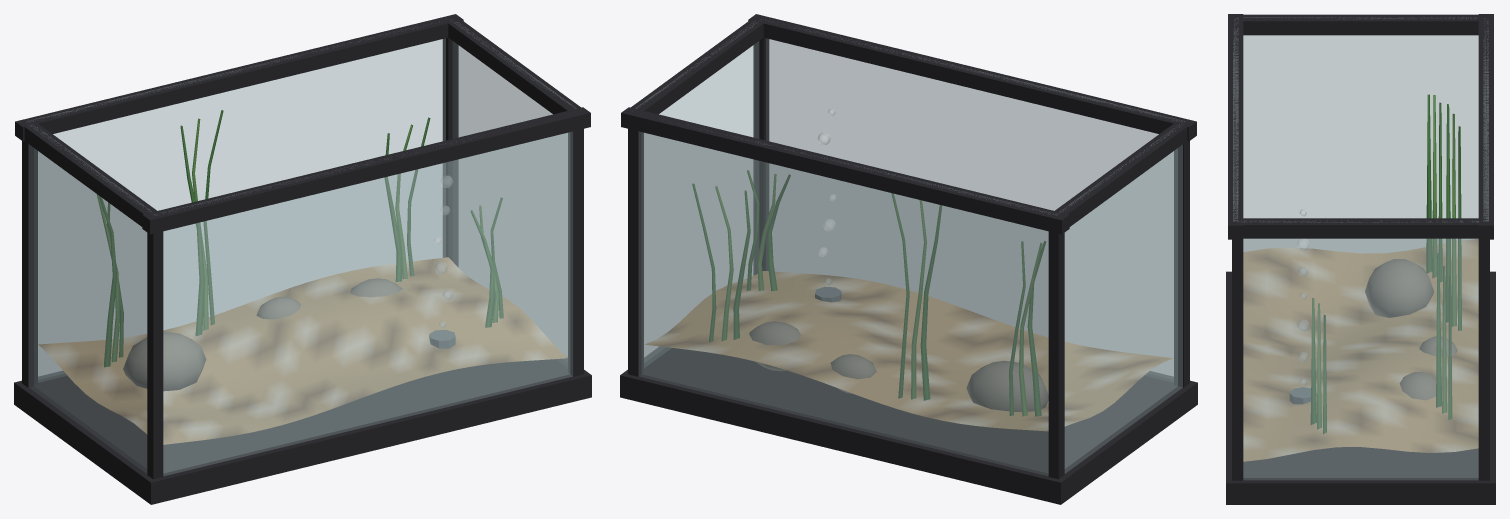
Rendered from be_kinh.glb.
3 renders of one model, left to right at view 1: azimuth 30°, elevation 25°; view 2: azimuth 150°, elevation 25°; view 3: azimuth 270°, elevation 25°, orthographic.
Parts seen in each view (by area): view 1: be_kinh; view 2: be_kinh; view 3: be_kinh.
Part boxes in pixels (box(x1,y1,x2,y2)): be_kinh: box(14, 14, 591, 504); be_kinh: box(620, 14, 1197, 504); be_kinh: box(1226, 14, 1495, 504).
Bounding box in the file's own units: 0.52 × 0.32 × 0.28.
